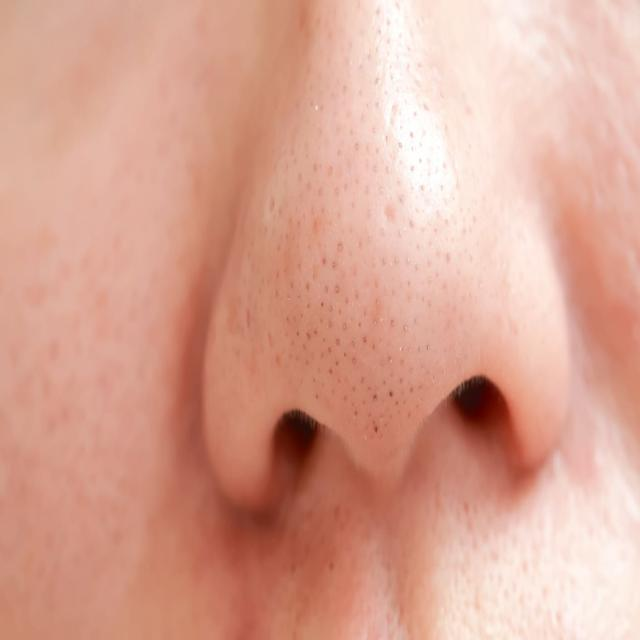Acne: (240, 150, 504, 443)
